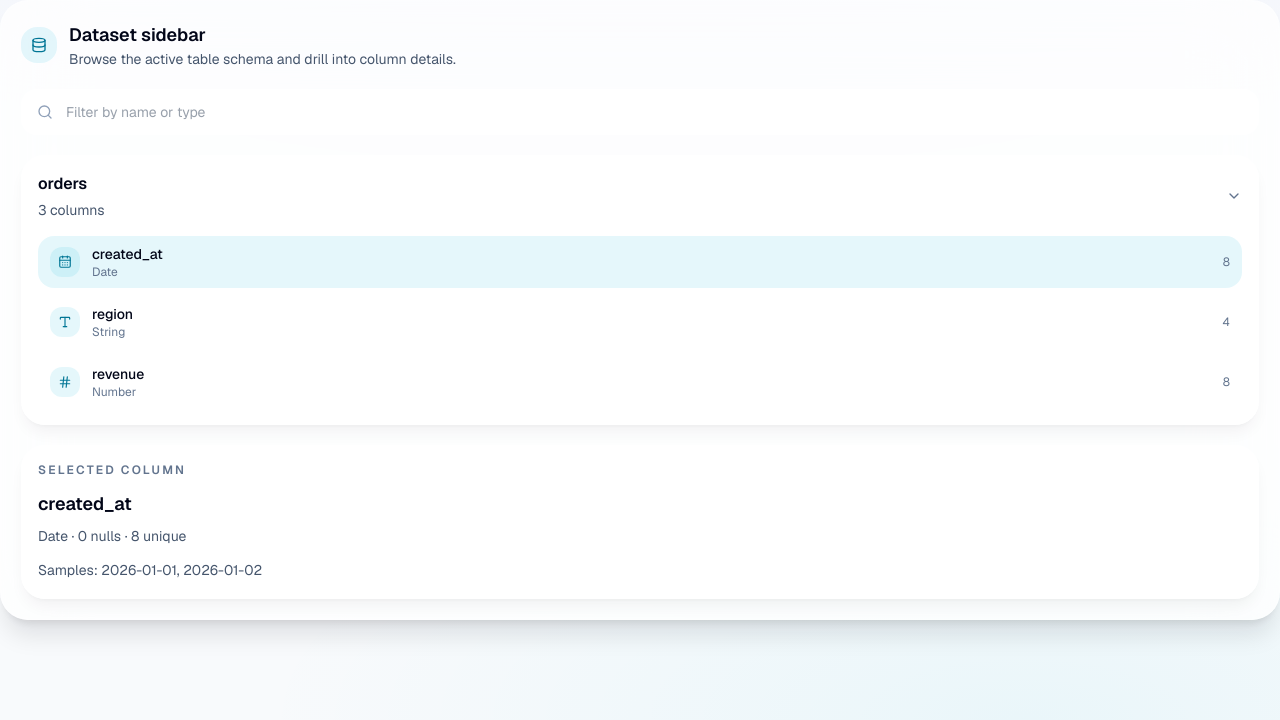
DatasetSidebar › updates the selected column details and supports collapse
Click the button "revenue Number 8" at (118, 374), box [38, 356, 1242, 408]
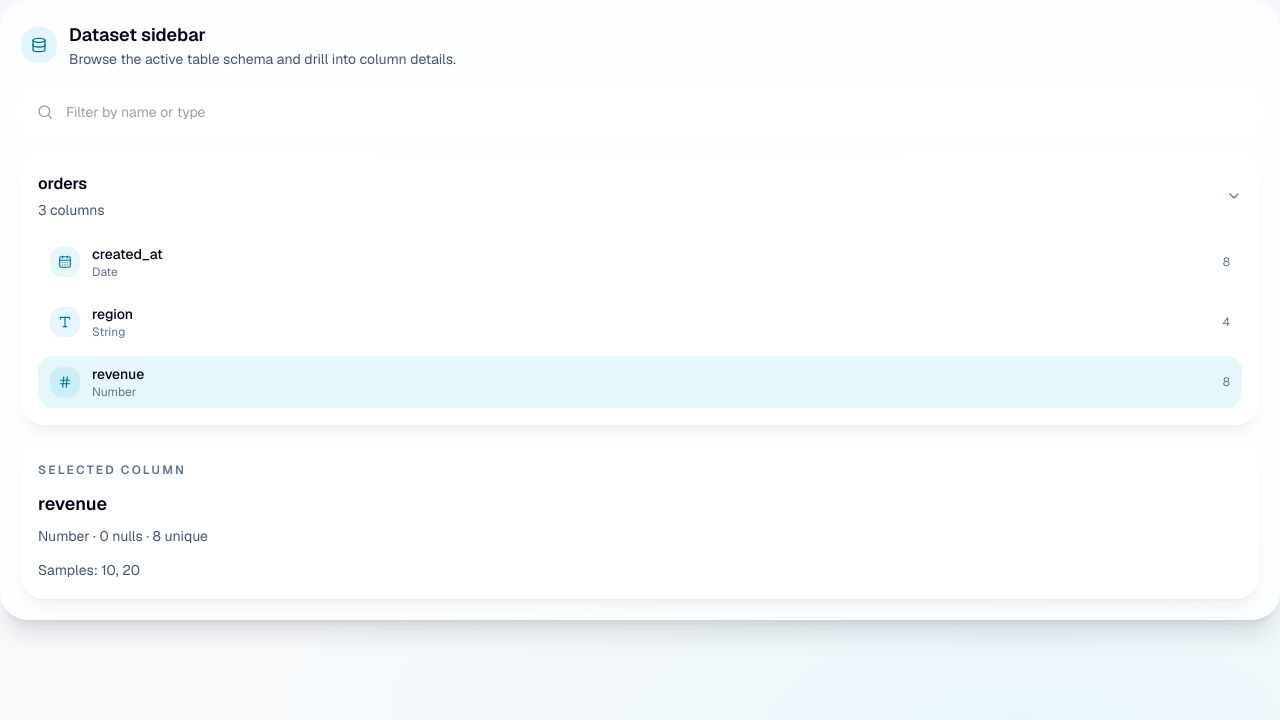
Expected: the 1st text "revenue" is shown, [92, 364, 144, 384]
Click the button "orders 3 columns" at (63, 184), box [38, 172, 1242, 220]
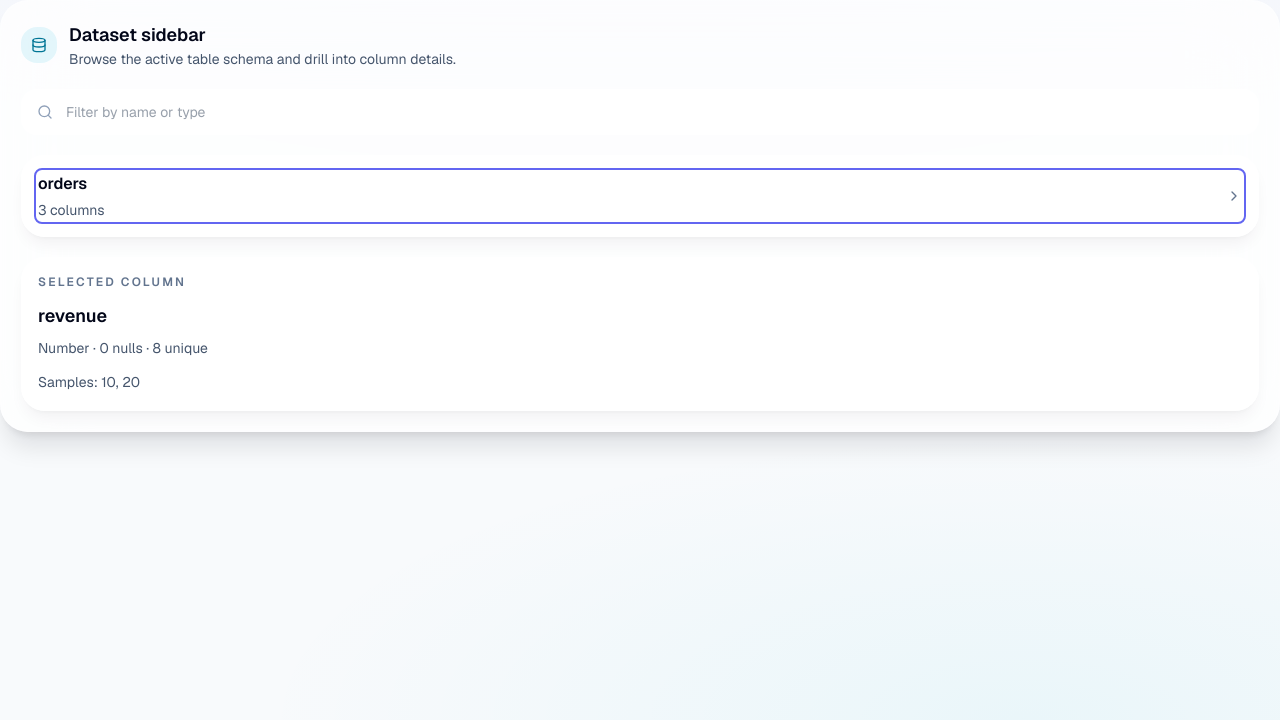
Now the button "created_at" is gone
